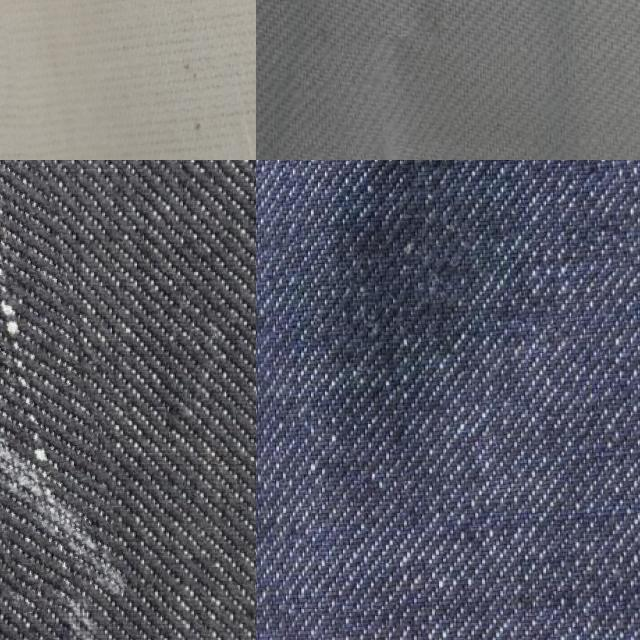stains: (0, 160, 106, 611), (333, 35, 479, 160)
